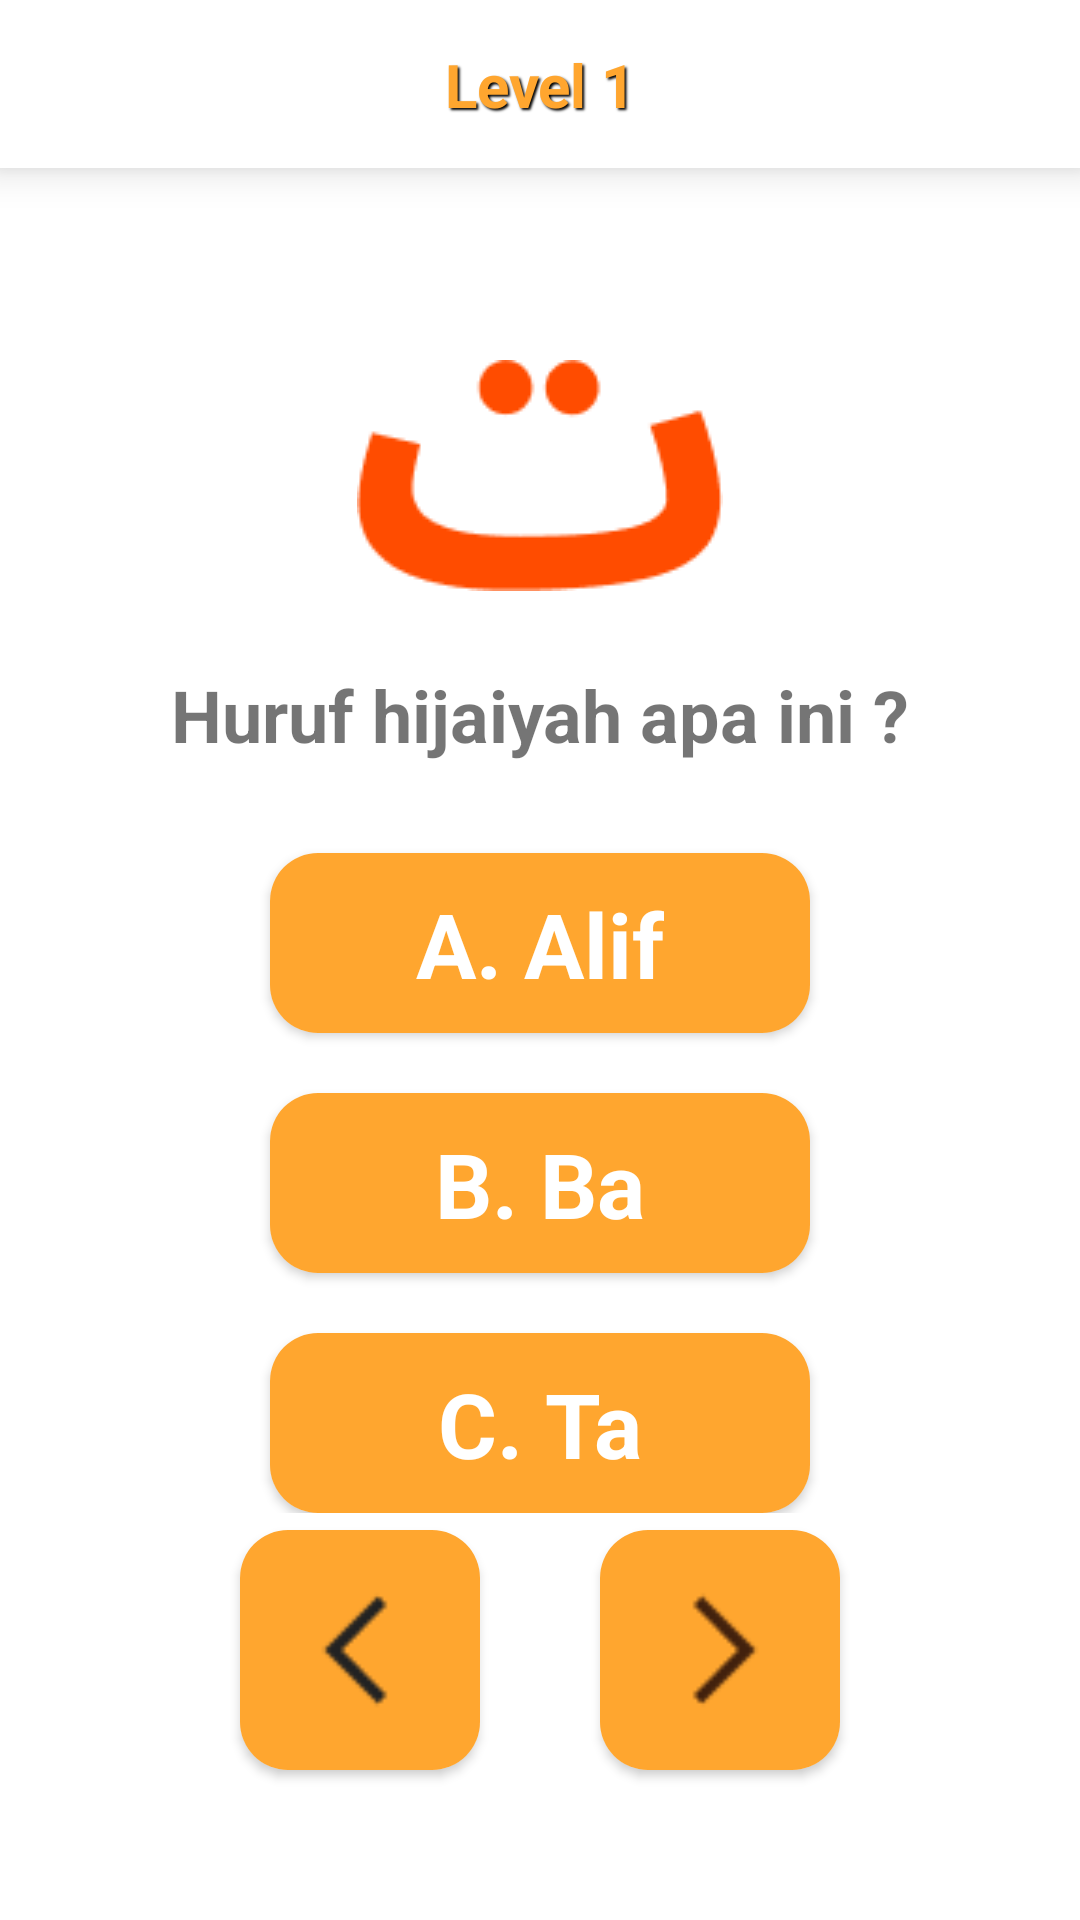

Locate icon controls on the screen. Image size 1080px×1920px, boxes as (left=x1, top=y1, right=x2, bottom=y2).
sebelum: (left=324, top=1596, right=387, bottom=1705)
setelah: (left=693, top=1596, right=756, bottom=1704)
